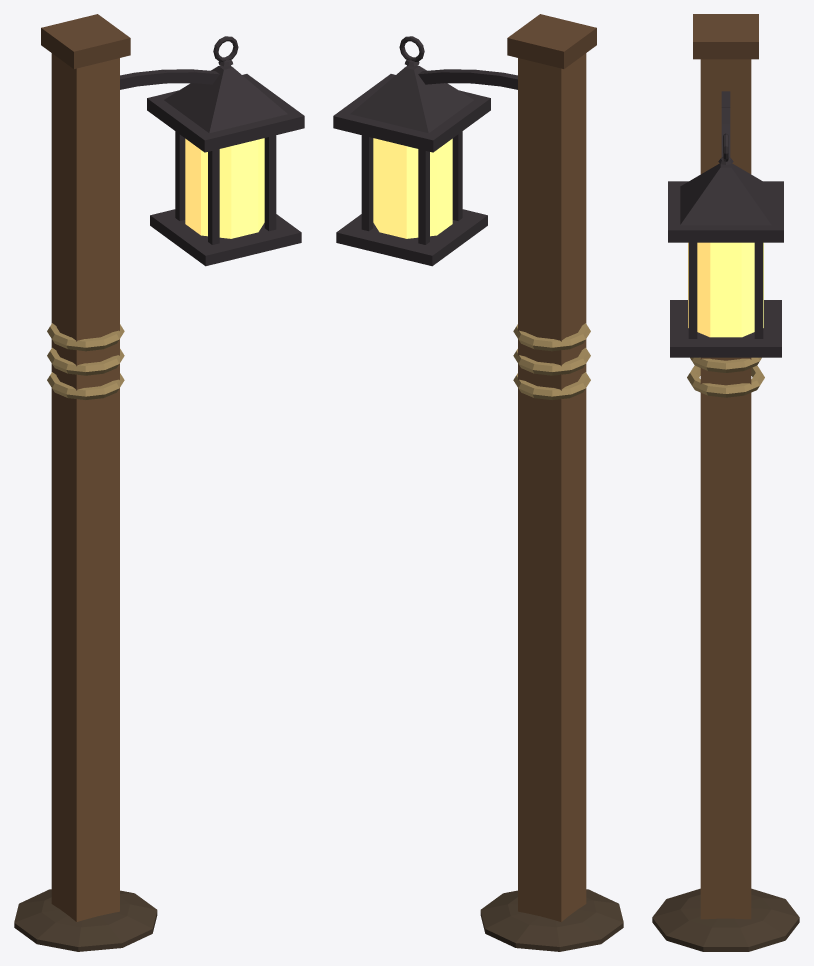
File: SM_Lamp_RusticPost_01.glb
The picture shows the model from 3 angles, left to right: view 1: azimuth 30°, elevation 25°; view 2: azimuth 150°, elevation 25°; view 3: azimuth 270°, elevation 25°; orthographic projection.
Visible parts, largest first — view 1: SM_Lamp_RusticPost_01_Post, SM_Lamp_RusticPost_01_HeadGlass, SM_Lamp_RusticPost_01_Mound, SM_Lamp_RusticPost_01_HeadRoof, SM_Lamp_RusticPost_01_HeadCap, SM_Lamp_RusticPost_01_HeadBase, SM_Lamp_RusticPost_01_PostCap, SM_Lamp_RusticPost_01_HeadPost3, SM_Lamp_RusticPost_01_HeadPost2, SM_Lamp_RusticPost_01_Rope1, SM_Lamp_RusticPost_01_Rope0, SM_Lamp_RusticPost_01_Rope2 (+1 smaller); view 2: SM_Lamp_RusticPost_01_Post, SM_Lamp_RusticPost_01_HeadGlass, SM_Lamp_RusticPost_01_Mound, SM_Lamp_RusticPost_01_HeadRoof, SM_Lamp_RusticPost_01_HeadCap, SM_Lamp_RusticPost_01_HeadBase, SM_Lamp_RusticPost_01_PostCap, SM_Lamp_RusticPost_01_HeadPost0, SM_Lamp_RusticPost_01_HeadPost1, SM_Lamp_RusticPost_01_Rope1, SM_Lamp_RusticPost_01_Rope0, SM_Lamp_RusticPost_01_Rope2 (+1 smaller); view 3: SM_Lamp_RusticPost_01_Post, SM_Lamp_RusticPost_01_Mound, SM_Lamp_RusticPost_01_HeadGlass, SM_Lamp_RusticPost_01_HeadRoof, SM_Lamp_RusticPost_01_HeadBase, SM_Lamp_RusticPost_01_HeadCap, SM_Lamp_RusticPost_01_PostCap, SM_Lamp_RusticPost_01_Rope0, SM_Lamp_RusticPost_01_HeadPost0, SM_Lamp_RusticPost_01_HeadPost3, SM_Lamp_RusticPost_01_Rope1.
Part boxes in pixels (bbox=[...]): SM_Lamp_RusticPost_01_Post: bbox=[51, 53, 119, 921]; SM_Lamp_RusticPost_01_HeadGlass: bbox=[185, 138, 264, 238]; SM_Lamp_RusticPost_01_Mound: bbox=[14, 889, 157, 951]; SM_Lamp_RusticPost_01_HeadRoof: bbox=[164, 65, 287, 133]; SM_Lamp_RusticPost_01_HeadCap: bbox=[147, 74, 304, 152]; SM_Lamp_RusticPost_01_HeadBase: bbox=[150, 209, 301, 266]; SM_Lamp_RusticPost_01_PostCap: bbox=[41, 14, 130, 68]; SM_Lamp_RusticPost_01_HeadPost3: bbox=[264, 135, 276, 231]; SM_Lamp_RusticPost_01_HeadPost2: bbox=[208, 149, 219, 244]; SM_Lamp_RusticPost_01_Rope1: bbox=[47, 347, 124, 375]; SM_Lamp_RusticPost_01_Rope0: bbox=[47, 372, 124, 399]; SM_Lamp_RusticPost_01_Rope2: bbox=[47, 323, 124, 351]; SM_Lamp_RusticPost_01_Post: bbox=[518, 53, 586, 921]; SM_Lamp_RusticPost_01_HeadGlass: bbox=[373, 138, 452, 238]; SM_Lamp_RusticPost_01_Mound: bbox=[480, 889, 623, 951]; SM_Lamp_RusticPost_01_HeadRoof: bbox=[350, 65, 473, 133]; SM_Lamp_RusticPost_01_HeadCap: bbox=[333, 74, 490, 152]; SM_Lamp_RusticPost_01_HeadBase: bbox=[336, 209, 487, 266]; SM_Lamp_RusticPost_01_PostCap: bbox=[507, 14, 596, 68]; SM_Lamp_RusticPost_01_HeadPost0: bbox=[361, 135, 373, 231]; SM_Lamp_RusticPost_01_HeadPost1: bbox=[418, 149, 429, 244]; SM_Lamp_RusticPost_01_Rope1: bbox=[513, 347, 590, 375]; SM_Lamp_RusticPost_01_Rope0: bbox=[513, 372, 590, 399]; SM_Lamp_RusticPost_01_Rope2: bbox=[513, 323, 590, 351]; SM_Lamp_RusticPost_01_Post: bbox=[700, 59, 751, 919]; SM_Lamp_RusticPost_01_Mound: bbox=[652, 888, 799, 951]; SM_Lamp_RusticPost_01_HeadGlass: bbox=[688, 242, 763, 337]; SM_Lamp_RusticPost_01_HeadRoof: bbox=[680, 163, 771, 225]; SM_Lamp_RusticPost_01_HeadBase: bbox=[670, 300, 781, 357]; SM_Lamp_RusticPost_01_HeadCap: bbox=[668, 181, 783, 242]; SM_Lamp_RusticPost_01_PostCap: bbox=[693, 14, 758, 59]; SM_Lamp_RusticPost_01_Rope0: bbox=[687, 365, 764, 397]; SM_Lamp_RusticPost_01_HeadPost0: bbox=[754, 242, 763, 338]; SM_Lamp_RusticPost_01_HeadPost3: bbox=[688, 242, 697, 338]; SM_Lamp_RusticPost_01_Rope1: bbox=[690, 357, 761, 372].
Size of the model in its own units: 0.7509 by 2.54 by 0.3804.
